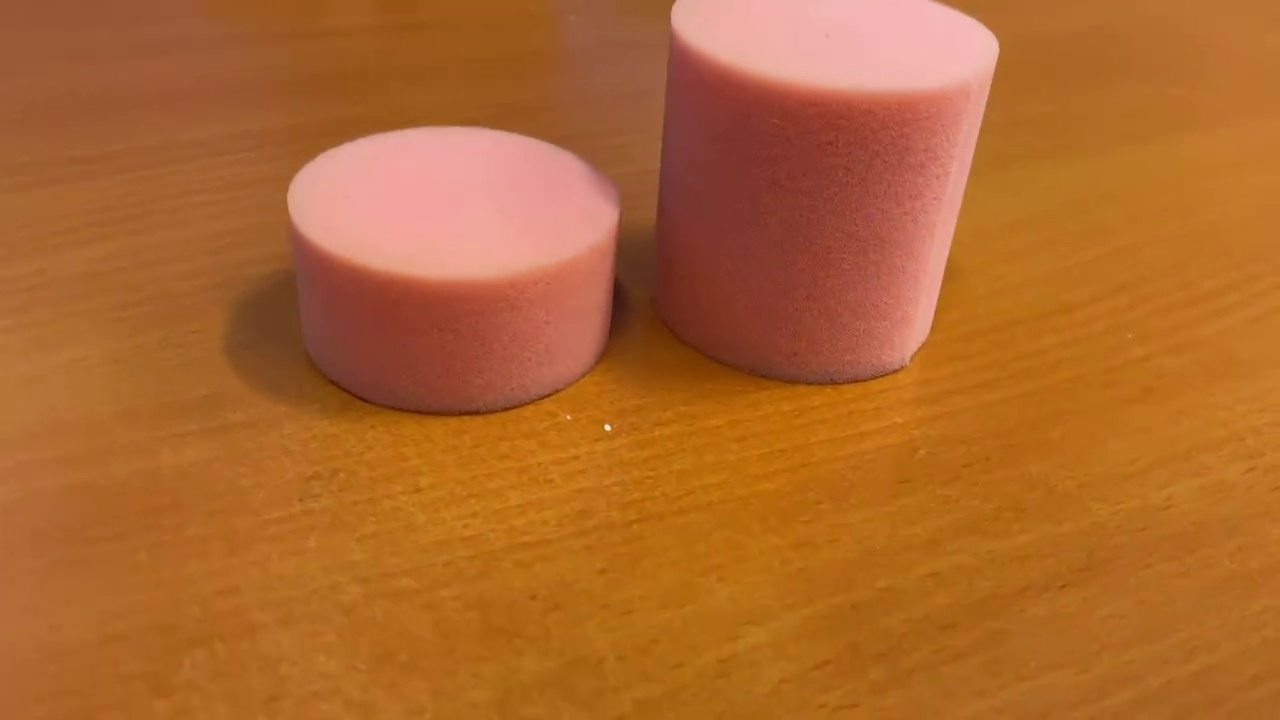Clyinder_short: (279, 102, 625, 415)
Cylinder: (644, 1, 1011, 395)
